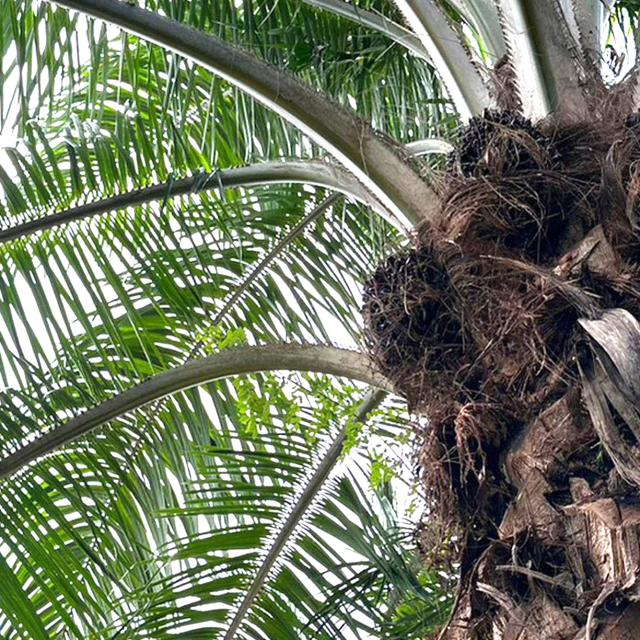almost: (357, 240, 467, 379), (444, 103, 562, 225)
